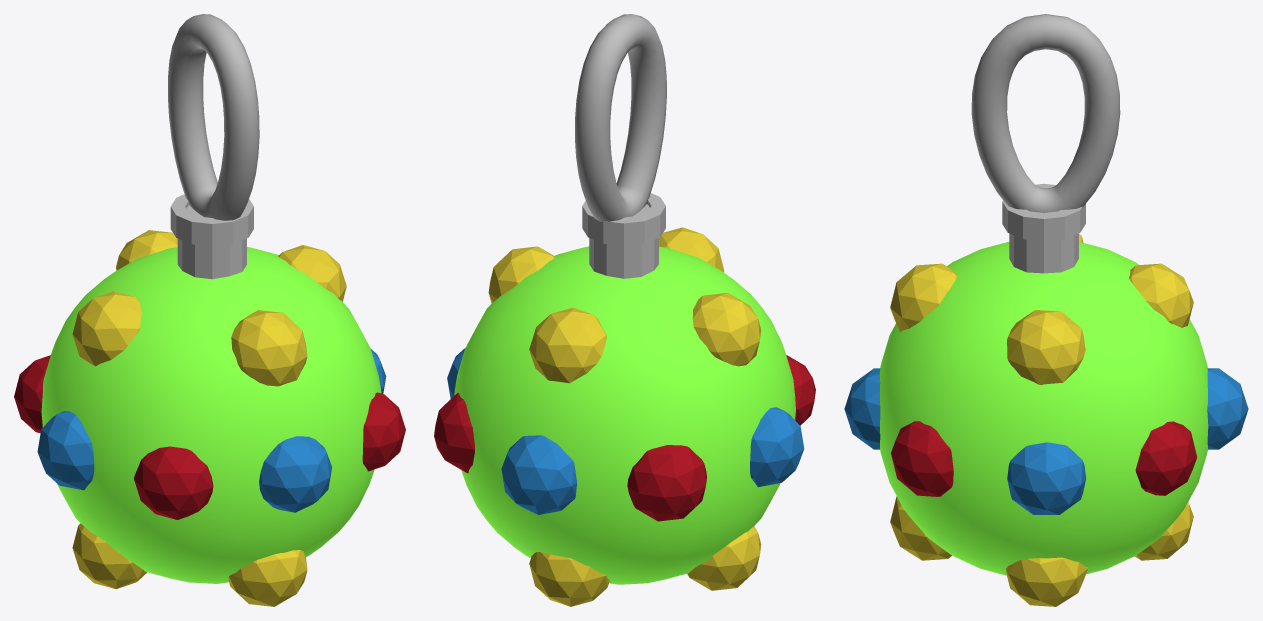
The model's file is green_christmas_ball.glb.
The picture shows the model from 3 angles, left to right: view 1: azimuth 30°, elevation 25°; view 2: azimuth 150°, elevation 25°; view 3: azimuth 270°, elevation 25°; orthographic projection.
Visible parts, largest first — view 1: ornament, BézierCircle; view 2: ornament, BézierCircle; view 3: ornament, BézierCircle.
Boxes of the visible parts, box(x1,y1,x2,y2) form: ornament: box(14, 194, 405, 606); BézierCircle: box(168, 14, 259, 220); ornament: box(434, 193, 815, 606); BézierCircle: box(575, 14, 666, 221); ornament: box(844, 183, 1248, 606); BézierCircle: box(971, 14, 1120, 212).
Bounding box in the file's own units: 1.95 × 3 × 2.01.
